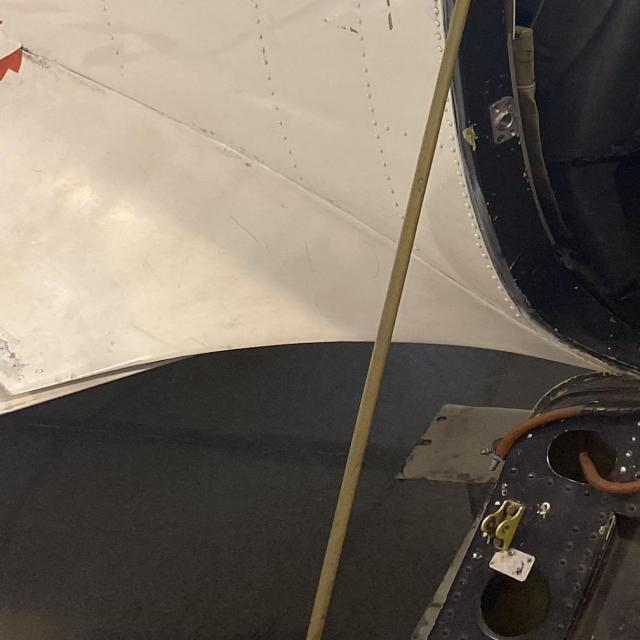Paint-off: (210, 141, 251, 164), (245, 160, 252, 171)
Scratch: (227, 212, 265, 252), (363, 246, 384, 286), (297, 239, 317, 278)
